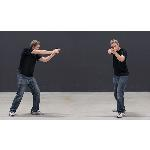Pistol: (52, 46, 64, 52), (110, 44, 114, 52)
